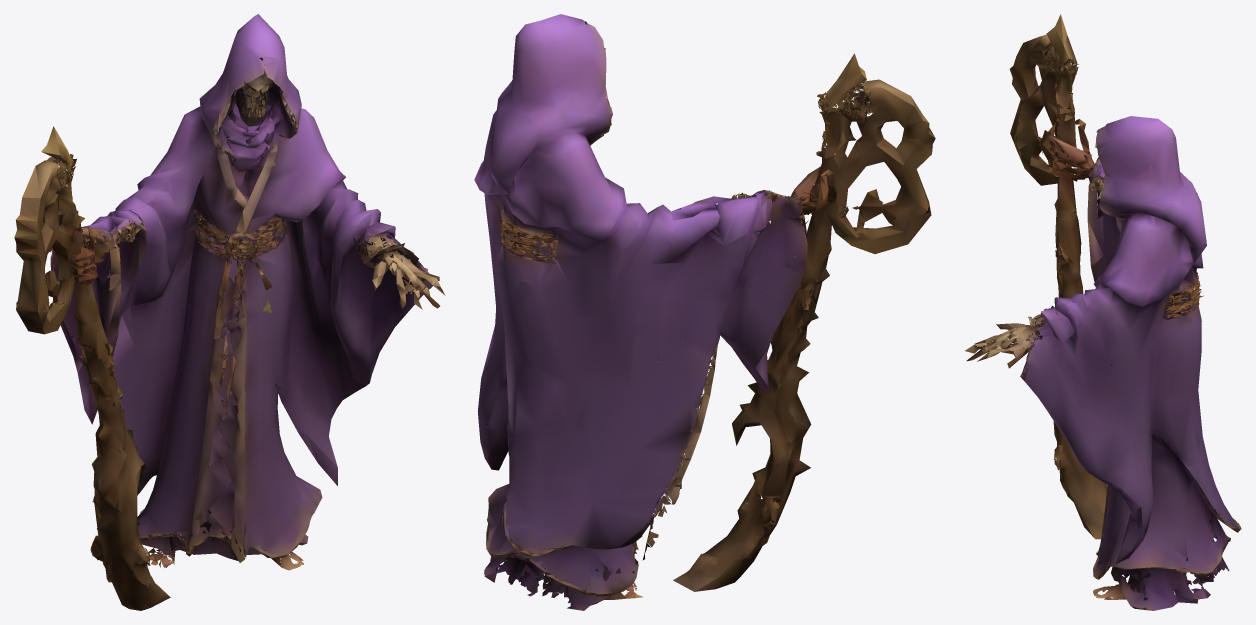
File: fig_bone_acolyte.glb
3 views of the same model, side by side, from view 1: azimuth 30°, elevation 25°; view 2: azimuth 150°, elevation 25°; view 3: azimuth 270°, elevation 25° (orthographic). The views are drawn at different scales.
Visible parts, largest first — view 1: fig_bone_acolyte; view 2: fig_bone_acolyte; view 3: fig_bone_acolyte.
Part boxes in pixels (bbox=[...]): fig_bone_acolyte: bbox=[14, 14, 445, 610]; fig_bone_acolyte: bbox=[474, 14, 935, 610]; fig_bone_acolyte: bbox=[965, 14, 1241, 610].
Size of the model in its own units: 0.7772 by 0.9323 by 0.4949.
Materials: 1 (1 with a texture image).
